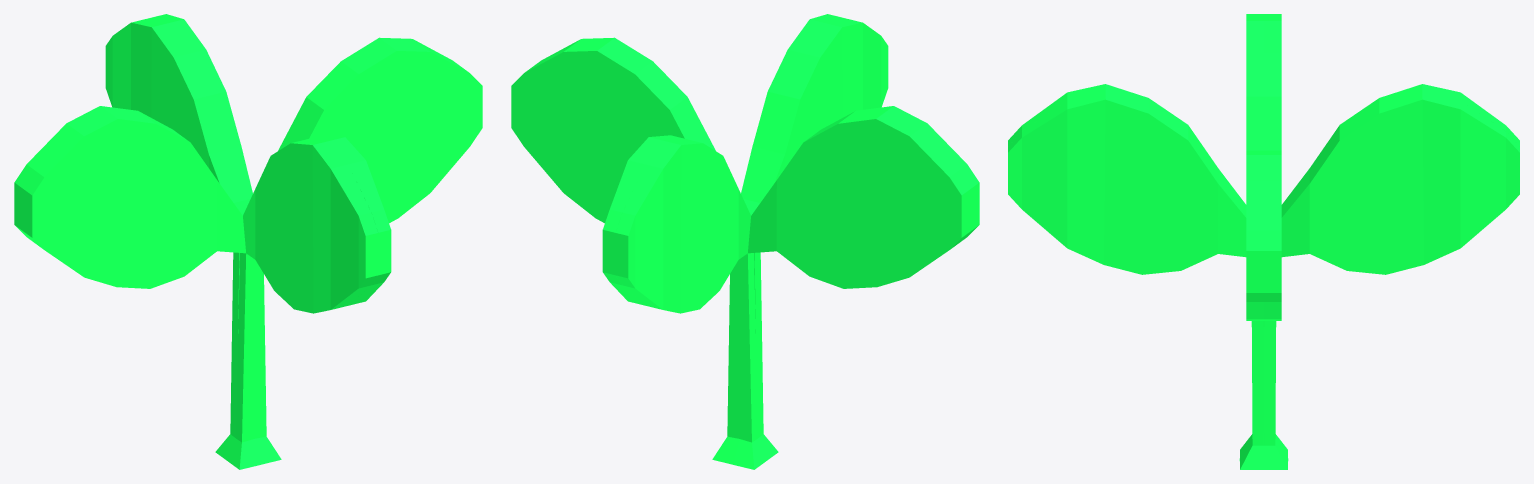
The model's file is Goal.glb.
3 renders of one model, left to right at view 1: azimuth 30°, elevation 25°; view 2: azimuth 150°, elevation 25°; view 3: azimuth 270°, elevation 25°, orthographic.
Visible parts, largest first — view 1: Goal_Sapling; view 2: Goal_Sapling; view 3: Goal_Sapling.
Boxes of the visible parts, x1,y1,x2,y2 form: Goal_Sapling: (14, 14, 482, 469); Goal_Sapling: (511, 14, 979, 469); Goal_Sapling: (1008, 14, 1519, 469).
Size of the model in its own units: 11.2 by 8.98 by 11.2.
